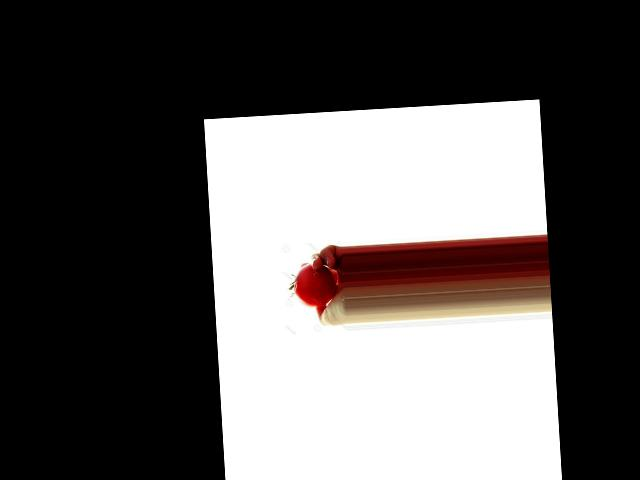tomato: (292, 261, 337, 308)
